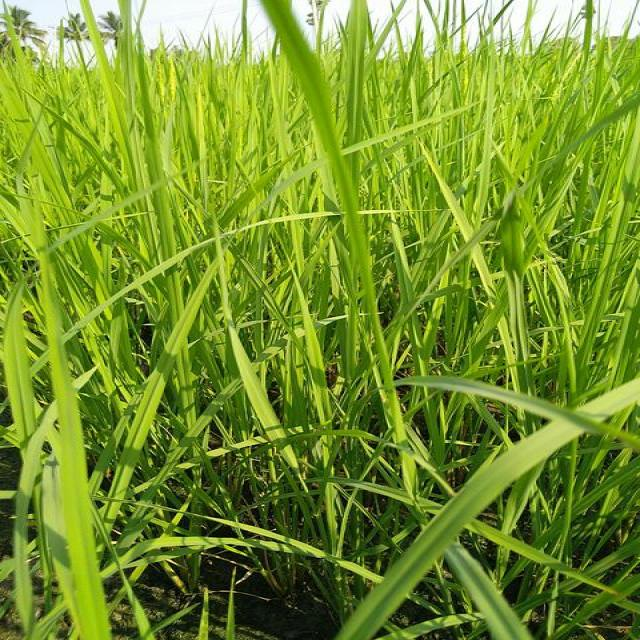Rice: (410, 381, 640, 544), (52, 261, 113, 640), (346, 187, 411, 486), (266, 0, 347, 185), (150, 55, 190, 427), (337, 544, 447, 640), (579, 199, 640, 371), (223, 323, 290, 463), (441, 542, 531, 640), (290, 274, 330, 436), (338, 6, 375, 172), (498, 256, 532, 372)
